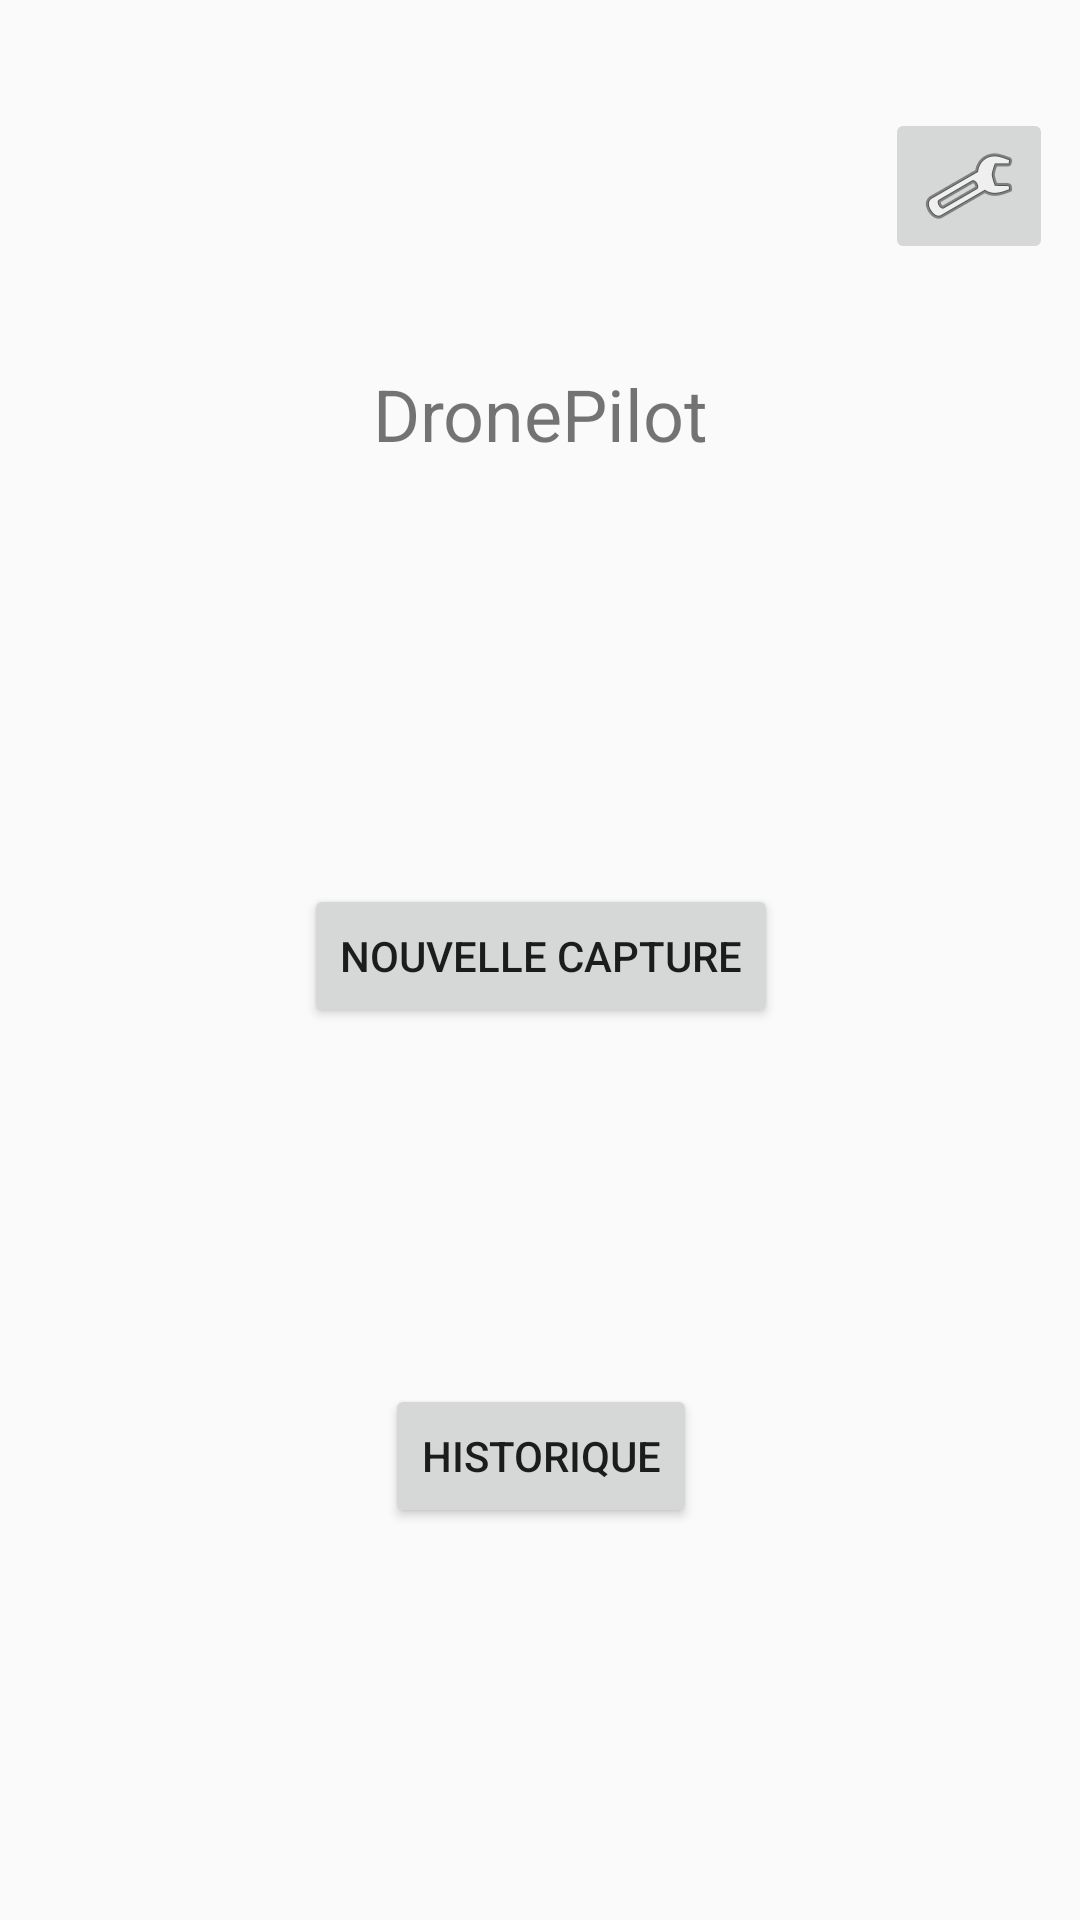

Where icons sit on this 1080x1920 app screen, as {"left": x1, "top": y1, "right": x2, "bottom": y2}:
manage: {"left": 897, "top": 126, "right": 1041, "bottom": 246}
